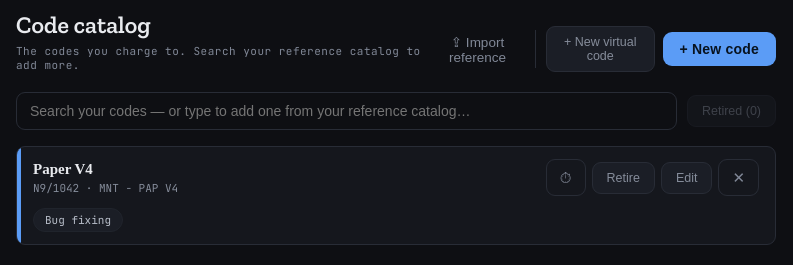
Test: CodeCatalogScreen › cancels a code removal via Keep
Click the button with test id "wk-catalog-delete-1".
click(739, 178)  # box x1=718 y1=159 x2=759 y2=196
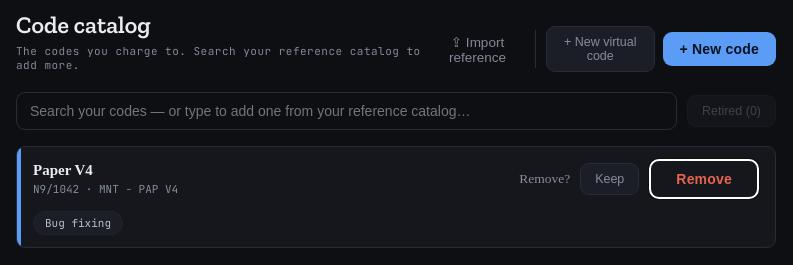
Click the button with test id "wk-catalog-delete-1-cancel".
click(610, 179)  # box x1=580 y1=163 x2=639 y2=195
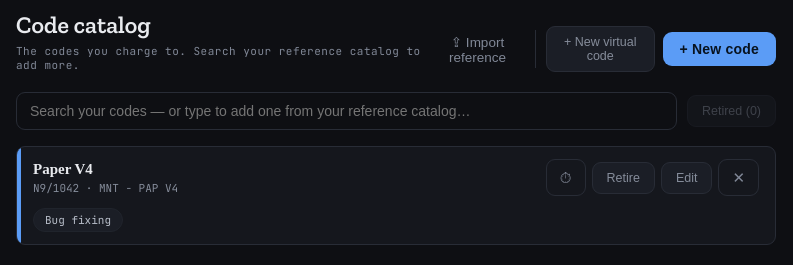
Now the button with test id "wk-catalog-delete-1" is shown, box x1=718 y1=159 x2=759 y2=196
